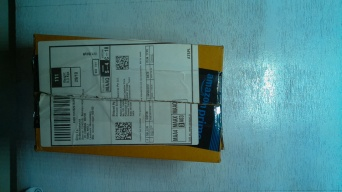a: (31, 31, 228, 165)
